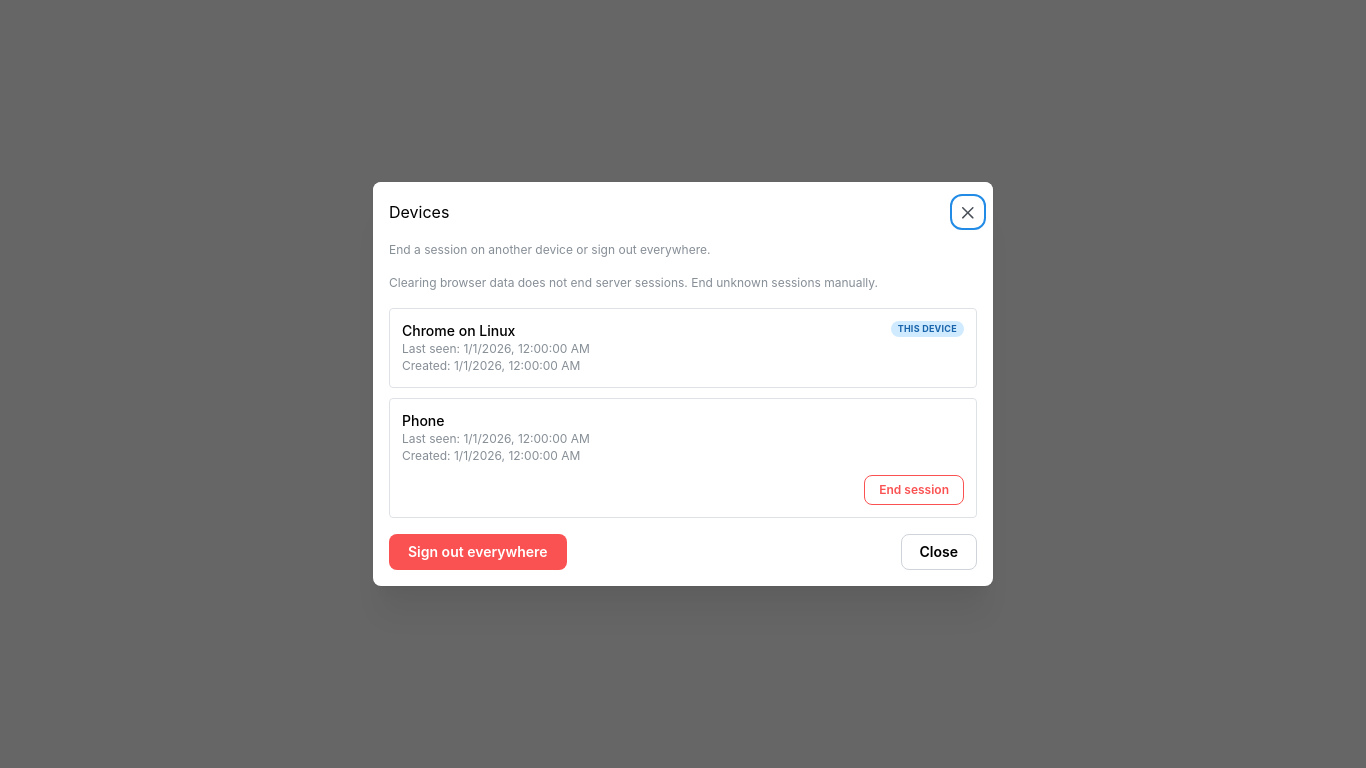
Test case: SessionsModal › lists devices and revokes another session
Expected: the text "Chrome on Linux" is shown, [402,322,515,339]
Expected: the text "Phone" is shown, [402,412,444,429]
Click the button "End session".
click(914, 490)  # box [864,475,964,505]
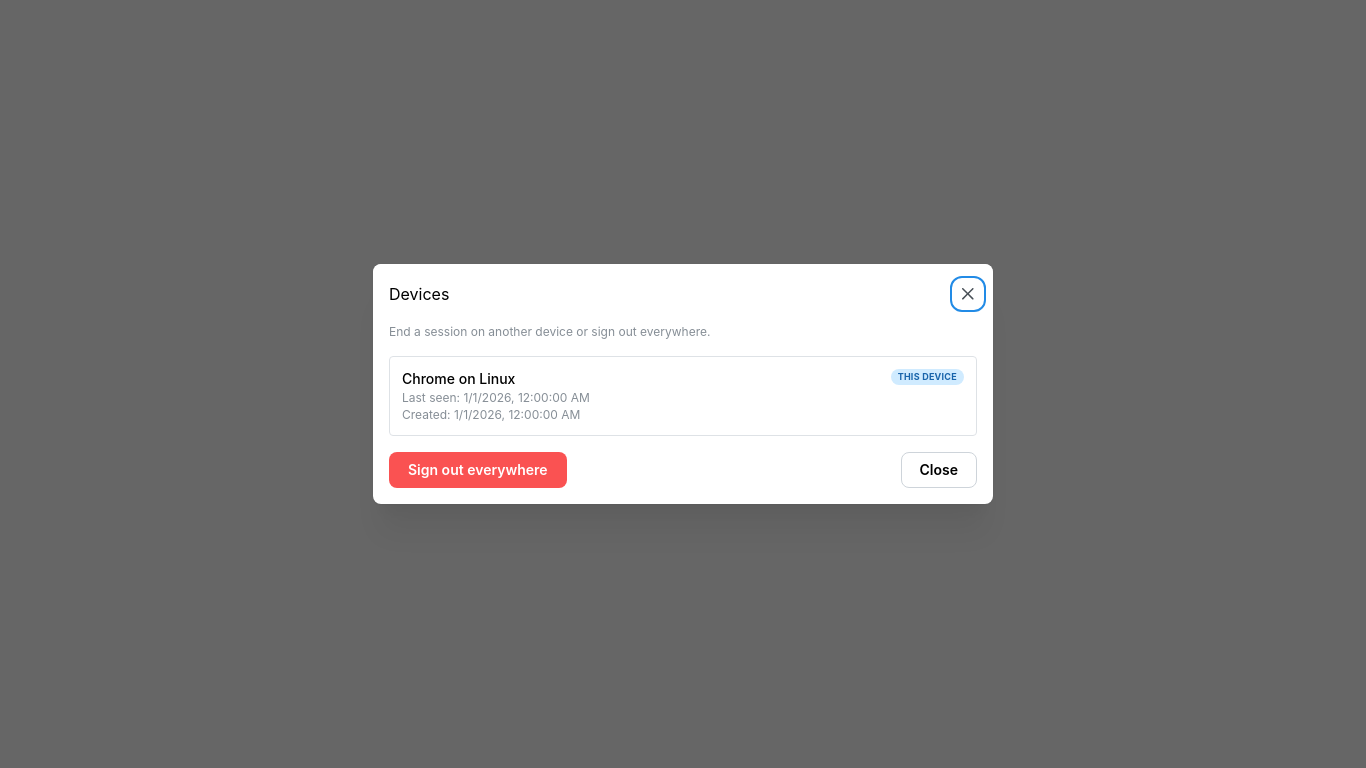
Expected: the text "Phone" is gone
